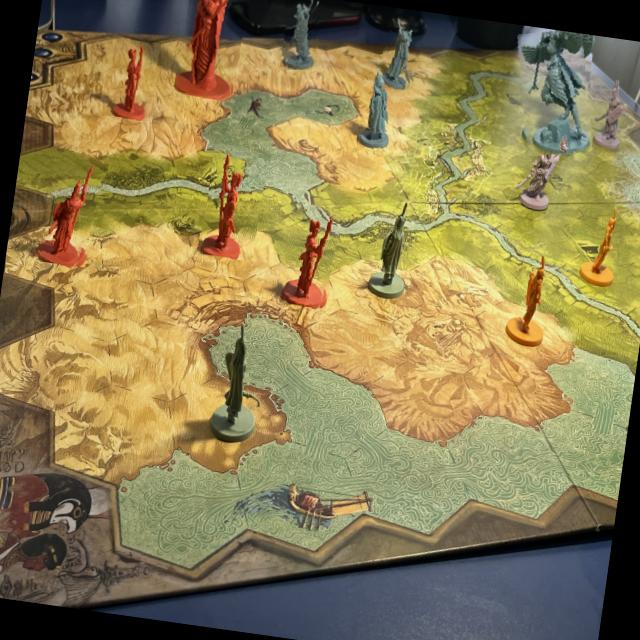amon: (174, 0, 250, 101)
amon_follower: (34, 148, 106, 270), (198, 142, 270, 262), (276, 202, 342, 310), (106, 37, 160, 122)
isis: (506, 26, 602, 160)
isis_follower: (375, 14, 426, 96), (354, 66, 400, 154), (277, 0, 325, 73)
